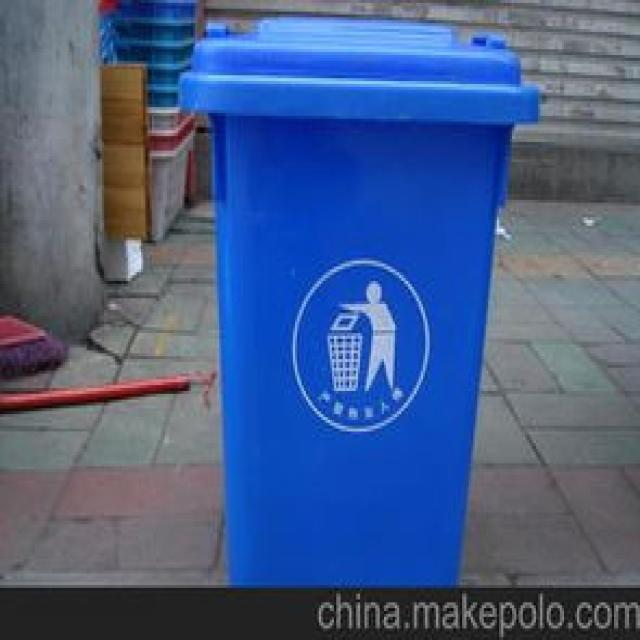garbage_bin: (176, 12, 538, 579)
